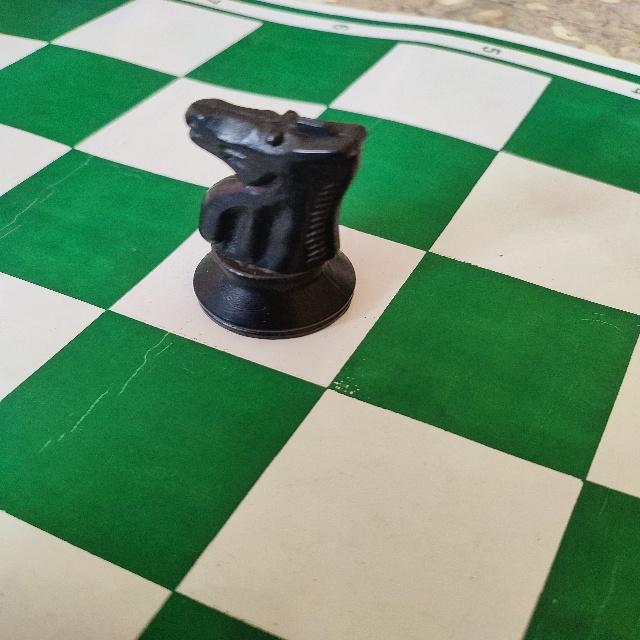Knight: (185, 92, 372, 344)
